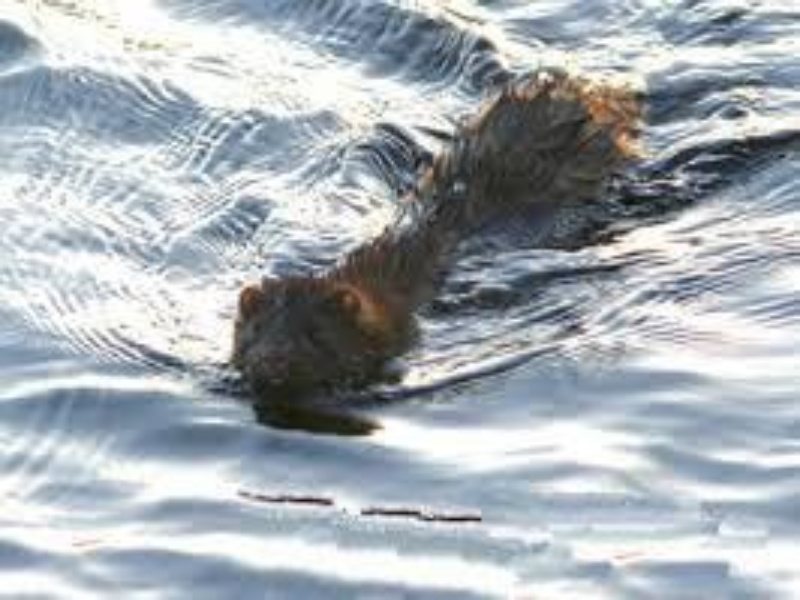minkish: (227, 75, 638, 394)
